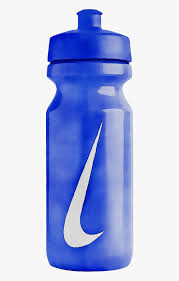unavailable: (42, 8, 141, 273)
